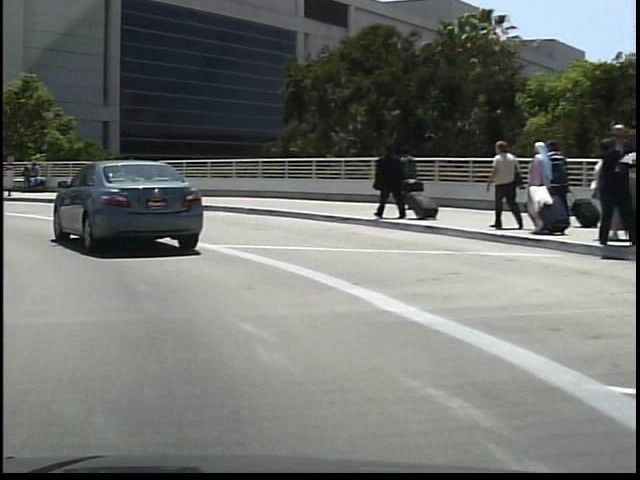person: (584, 119, 628, 246), (479, 134, 521, 233), (366, 139, 404, 222), (395, 145, 419, 210)
